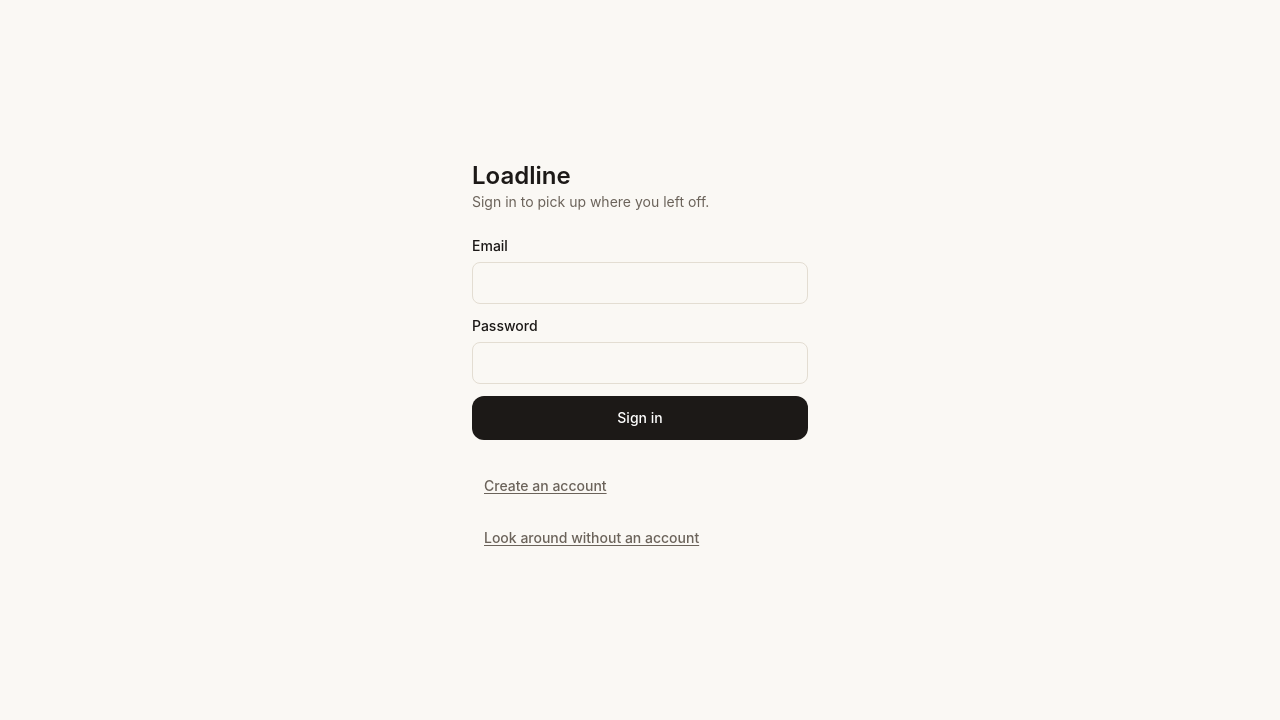
Test case: App › shows a working week to somebody who looks around without an account
The image size is (1280, 720).
Click the button "Look around without an account".
click(592, 538)  # box [472,516,711,560]
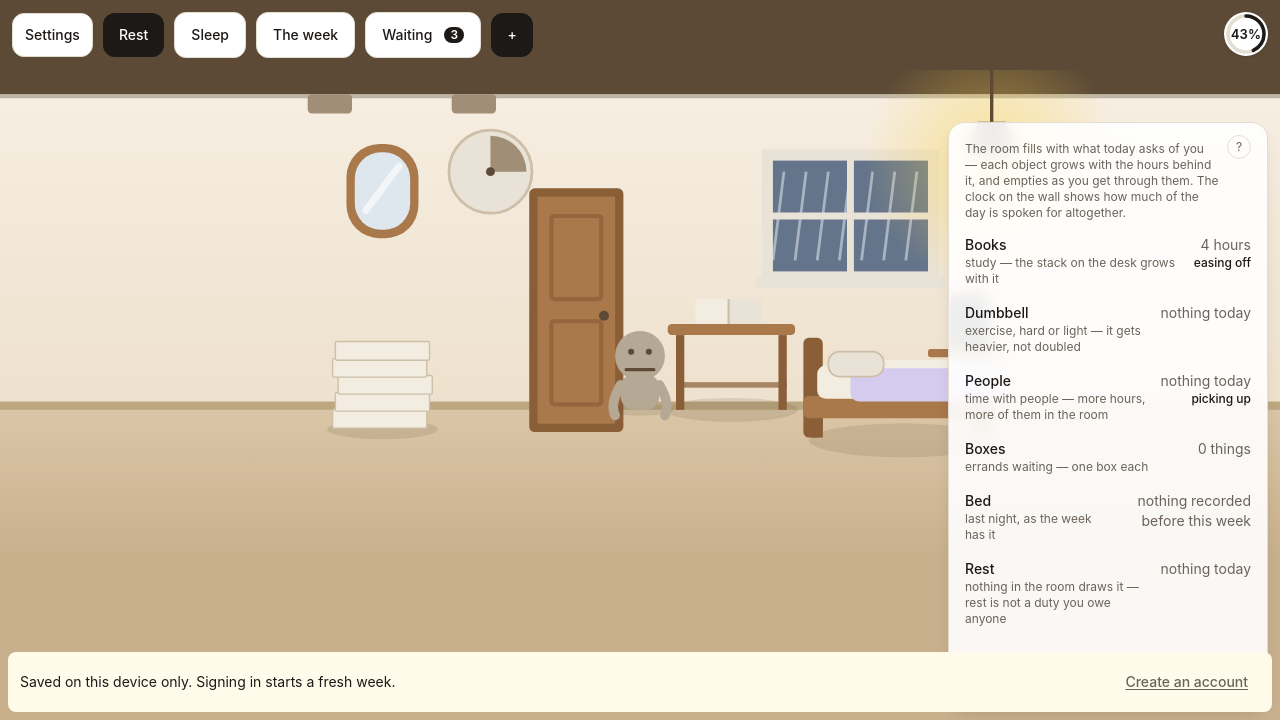
Now the picture with test id "room-scene" is shown
Now the button with test id "room-gauge" reads "43%", box [1224,12,1268,56]
